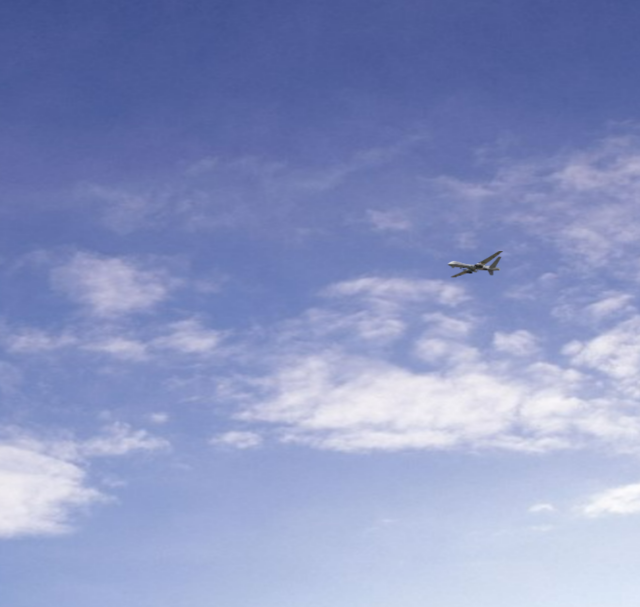military drone: (447, 250, 502, 277)
